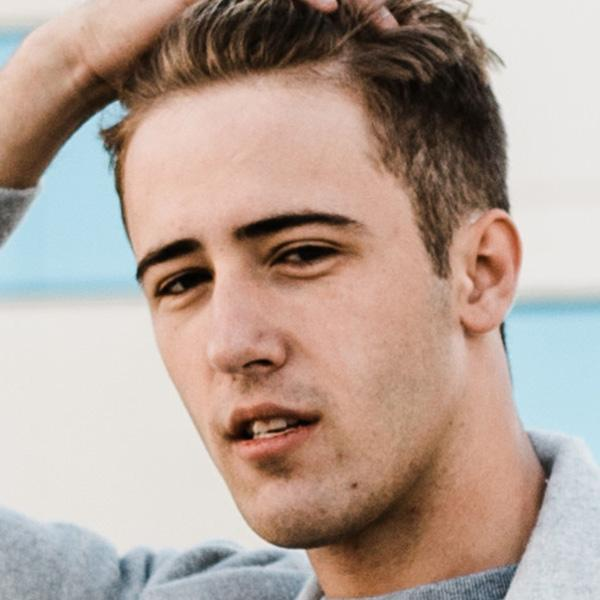Eyes: (258, 232, 358, 280), (149, 256, 219, 311)
